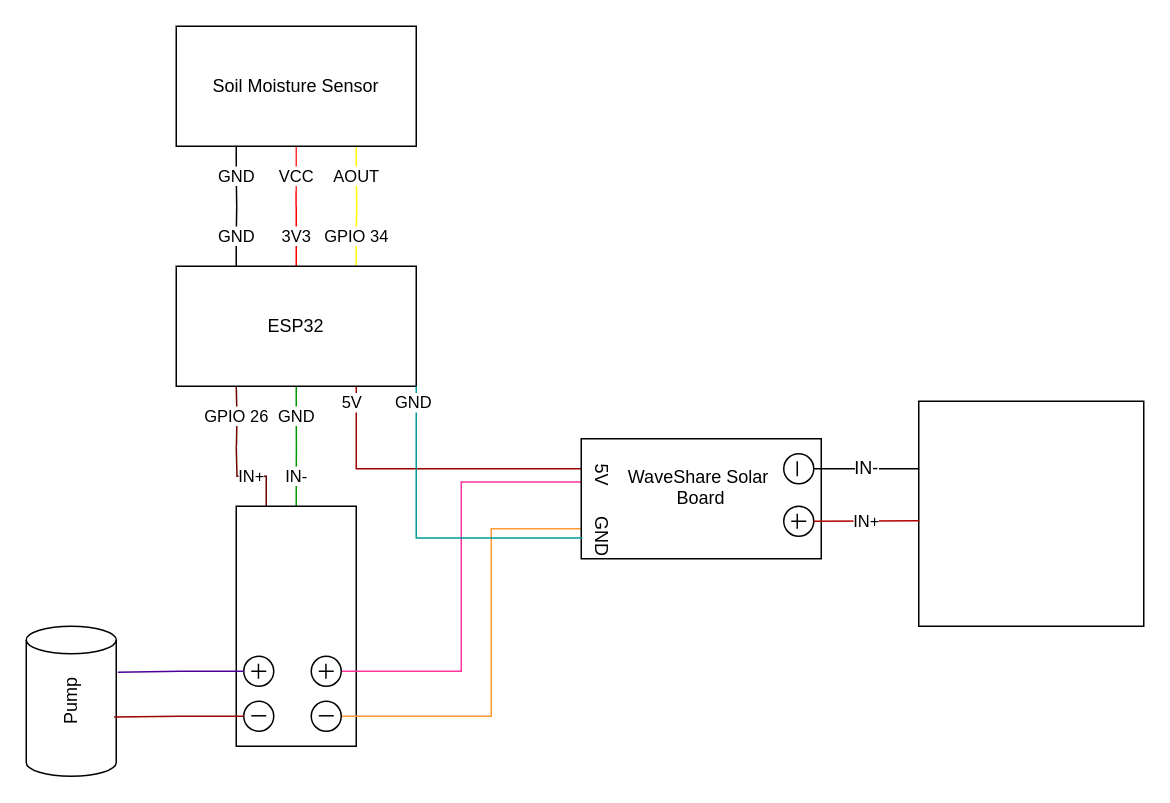
Some shapes in this 1170 by 803 pixel diagram are drawn without their labels. The box of each missing label's shape, as (x1, y1, x2, y2) in pixels:
MOSFET Module: (235, 505, 356, 746)
Solar Panel: (917, 400, 1144, 626)
